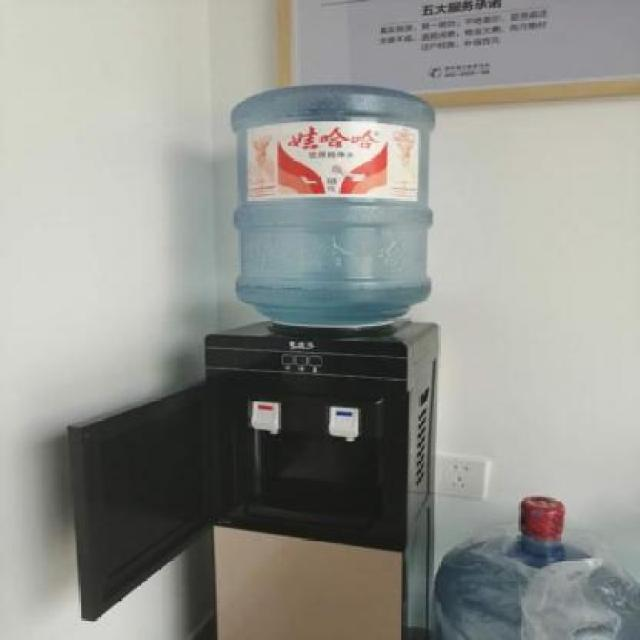cooler: (205, 78, 443, 640)
